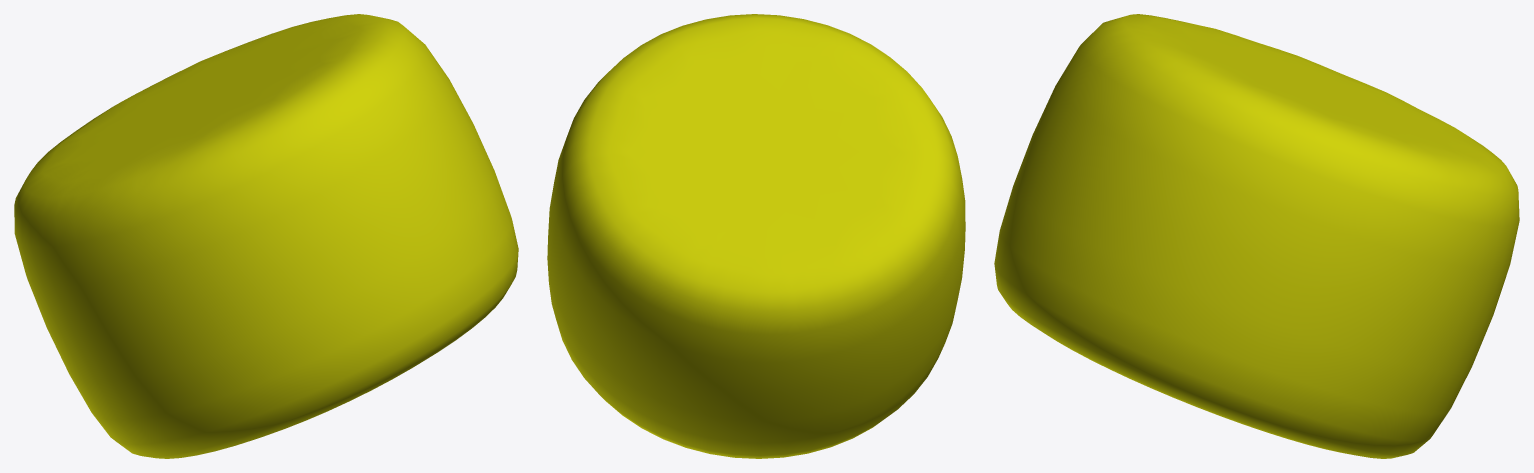
The picture shows the model from 3 angles, left to right: view 1: azimuth 30°, elevation 25°; view 2: azimuth 150°, elevation 25°; view 3: azimuth 270°, elevation 25°; orthographic projection. The views are drawn at different scales.
Visible parts, largest first — view 1: Cylinder.432; view 2: Cylinder.432; view 3: Cylinder.432.
Part boxes in pixels (x1,y1,x2,y2): Cylinder.432: (14,14,518,458); Cylinder.432: (547,14,965,458); Cylinder.432: (994,14,1519,458).
Bounding box in the file's own units: 5.86 × 5.23 × 5.94.
